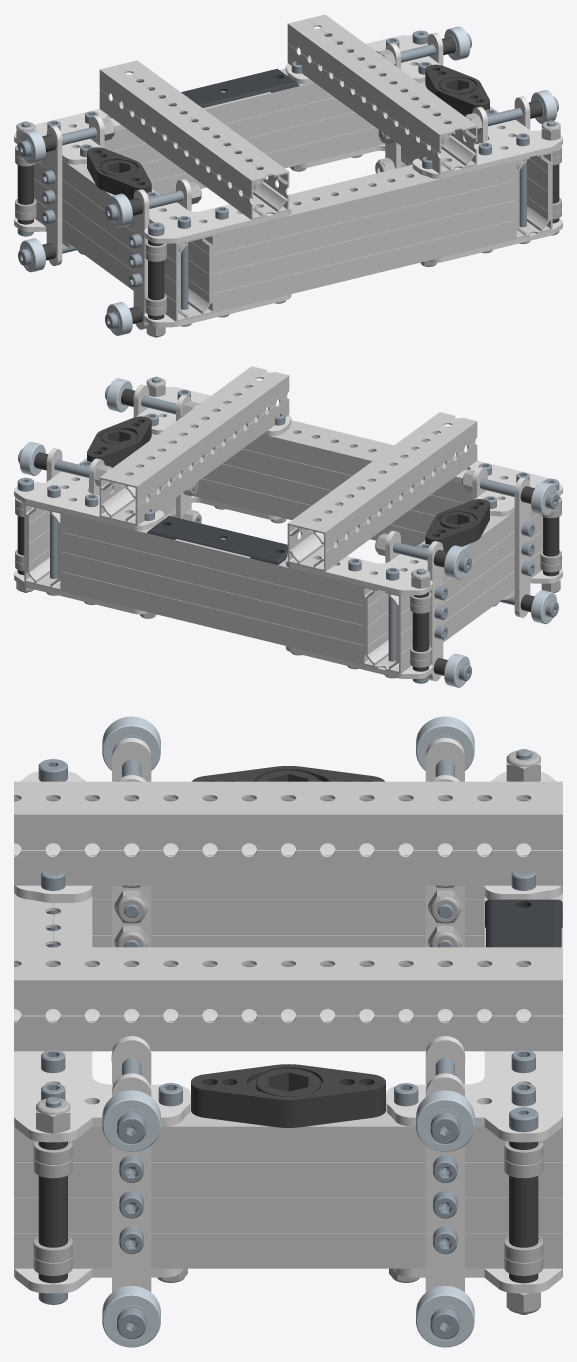
The picture shows the model from 3 angles, top to bottom: view 1: azimuth 30°, elevation 25°; view 2: azimuth 150°, elevation 25°; view 3: azimuth 270°, elevation 25°; orthographic projection. The views are drawn at different scales.
Visible parts, largest first — view 1: Carriage Top/Bottom (×2), MAXTube, 1x1x47" (×2), Carriage Side (×2), Slider Corner Plate (×7), Ratchet Plate (1/2" Hex) (WCP-0585) (×2), Guide Plate (×3), 0.75" OD x 0.25" ID x .280" Radial Ball Bearing (TTB-0038) (×6), Spring Cover, Socket head shoulder screw 0.2480 x 1.75 - #10-24 (×4), Socket head cap screw #10-32 x 2.5 (×2), Nylon Spacer (×2); view 2: Carriage Top/Bottom (×2), MAXTube, 1x1x47" (×2), Carriage Side (×2), Slider Corner Plate (×7), Ratchet Plate (1/2" Hex) (WCP-0585) (×2), Guide Plate (×3), 0.75" OD x 0.25" ID x .280" Radial Ball Bearing (TTB-0038) (×6), Spring Cover, Socket head shoulder screw 0.2480 x 1.75 - #10-24 (×4), Socket head cap screw #10-32 x 2.5 (×2), Nylon Spacer (×2); view 3: MAXTube, 1x1x47" (×2), Carriage Side (×2), Slider Corner Plate (×6), Guide Plate (×8), 0.75" OD x 0.25" ID x .280" Radial Ball Bearing (TTB-0038) (×6), Ratchet Plate (1/2" Hex) (WCP-0585) (×2), Nylon Spacer (×2), Spring Cover, Socket head shoulder screw 0.2480 x 1.75 - #10-24 (×4), Carriage Top/Bottom, 1/4"-20 Nylon-Insert Locknut (×2), 10-32 Nylon-Insert Locknut (×2).
Boxes of the visible parts, bbox=[...] form: Carriage Top/Bottom (×2): bbox=[104, 68, 514, 312]; MAXTube, 1x1x47" (×2): bbox=[99, 14, 477, 219]; Carriage Side (×2): bbox=[34, 82, 552, 321]; Slider Corner Plate (×7): bbox=[14, 35, 562, 327]; Ratchet Plate (1/2" Hex) (WCP-0585) (×2): bbox=[87, 64, 489, 199]; Guide Plate (×3): bbox=[46, 43, 400, 329]; 0.75" OD x 0.25" ID x .280" Radial Ball Bearing (TTB-0038) (×6): bbox=[19, 26, 557, 335]; Spring Cover: bbox=[159, 68, 299, 113]; Socket head shoulder screw 0.2480 x 1.75 - #10-24 (×4): bbox=[18, 33, 558, 221]; Socket head cap screw #10-32 x 2.5 (×2): bbox=[177, 133, 529, 309]; Nylon Spacer (×2): bbox=[17, 165, 164, 300]; Carriage Top/Bottom (×2): bbox=[62, 420, 472, 664]; MAXTube, 1x1x47" (×2): bbox=[99, 366, 477, 571]; Carriage Side (×2): bbox=[24, 434, 542, 673]; Slider Corner Plate (×7): bbox=[14, 387, 562, 678]; Ratchet Plate (1/2" Hex) (WCP-0585) (×2): bbox=[87, 416, 489, 551]; Guide Plate (×3): bbox=[176, 395, 530, 681]; 0.75" OD x 0.25" ID x .280" Radial Ball Bearing (TTB-0038) (×6): bbox=[19, 378, 557, 687]; Spring Cover: bbox=[147, 516, 287, 564]; Socket head shoulder screw 0.2480 x 1.75 - #10-24 (×4): bbox=[18, 385, 558, 572]; Socket head cap screw #10-32 x 2.5 (×2): bbox=[47, 485, 399, 661]; Nylon Spacer (×2): bbox=[412, 517, 559, 651]; MAXTube, 1x1x47" (×2): bbox=[14, 781, 562, 1051]; Carriage Side (×2): bbox=[14, 885, 562, 1268]; Slider Corner Plate (×6): bbox=[14, 771, 562, 1293]; Guide Plate (×8): bbox=[112, 737, 464, 1292]; 0.75" OD x 0.25" ID x .280" Radial Ball Bearing (TTB-0038) (×6): bbox=[102, 716, 474, 1347]; Ratchet Plate (1/2" Hex) (WCP-0585) (×2): bbox=[191, 766, 385, 1127]; Nylon Spacer (×2): bbox=[38, 1175, 538, 1247]; Spring Cover: bbox=[485, 899, 562, 947]; Socket head shoulder screw 0.2480 x 1.75 - #10-24 (×4): bbox=[117, 1058, 459, 1339]; Carriage Top/Bottom: bbox=[14, 892, 92, 947]; 1/4"-20 Nylon-Insert Locknut (×2): bbox=[36, 750, 540, 1133]; 10-32 Nylon-Insert Locknut (×2): bbox=[114, 890, 462, 923].
Bounding box in the file's own units: 0.3017 × 0.0984 × 0.1778.
